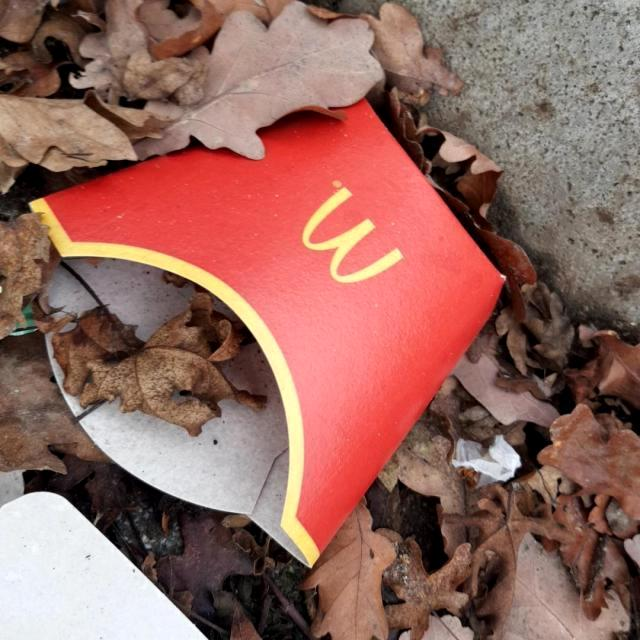Paper: (22, 89, 508, 575)
